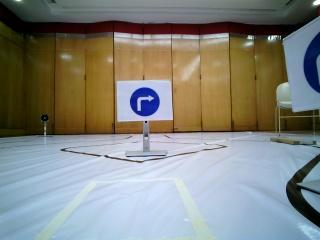right: (116, 81, 172, 119)
